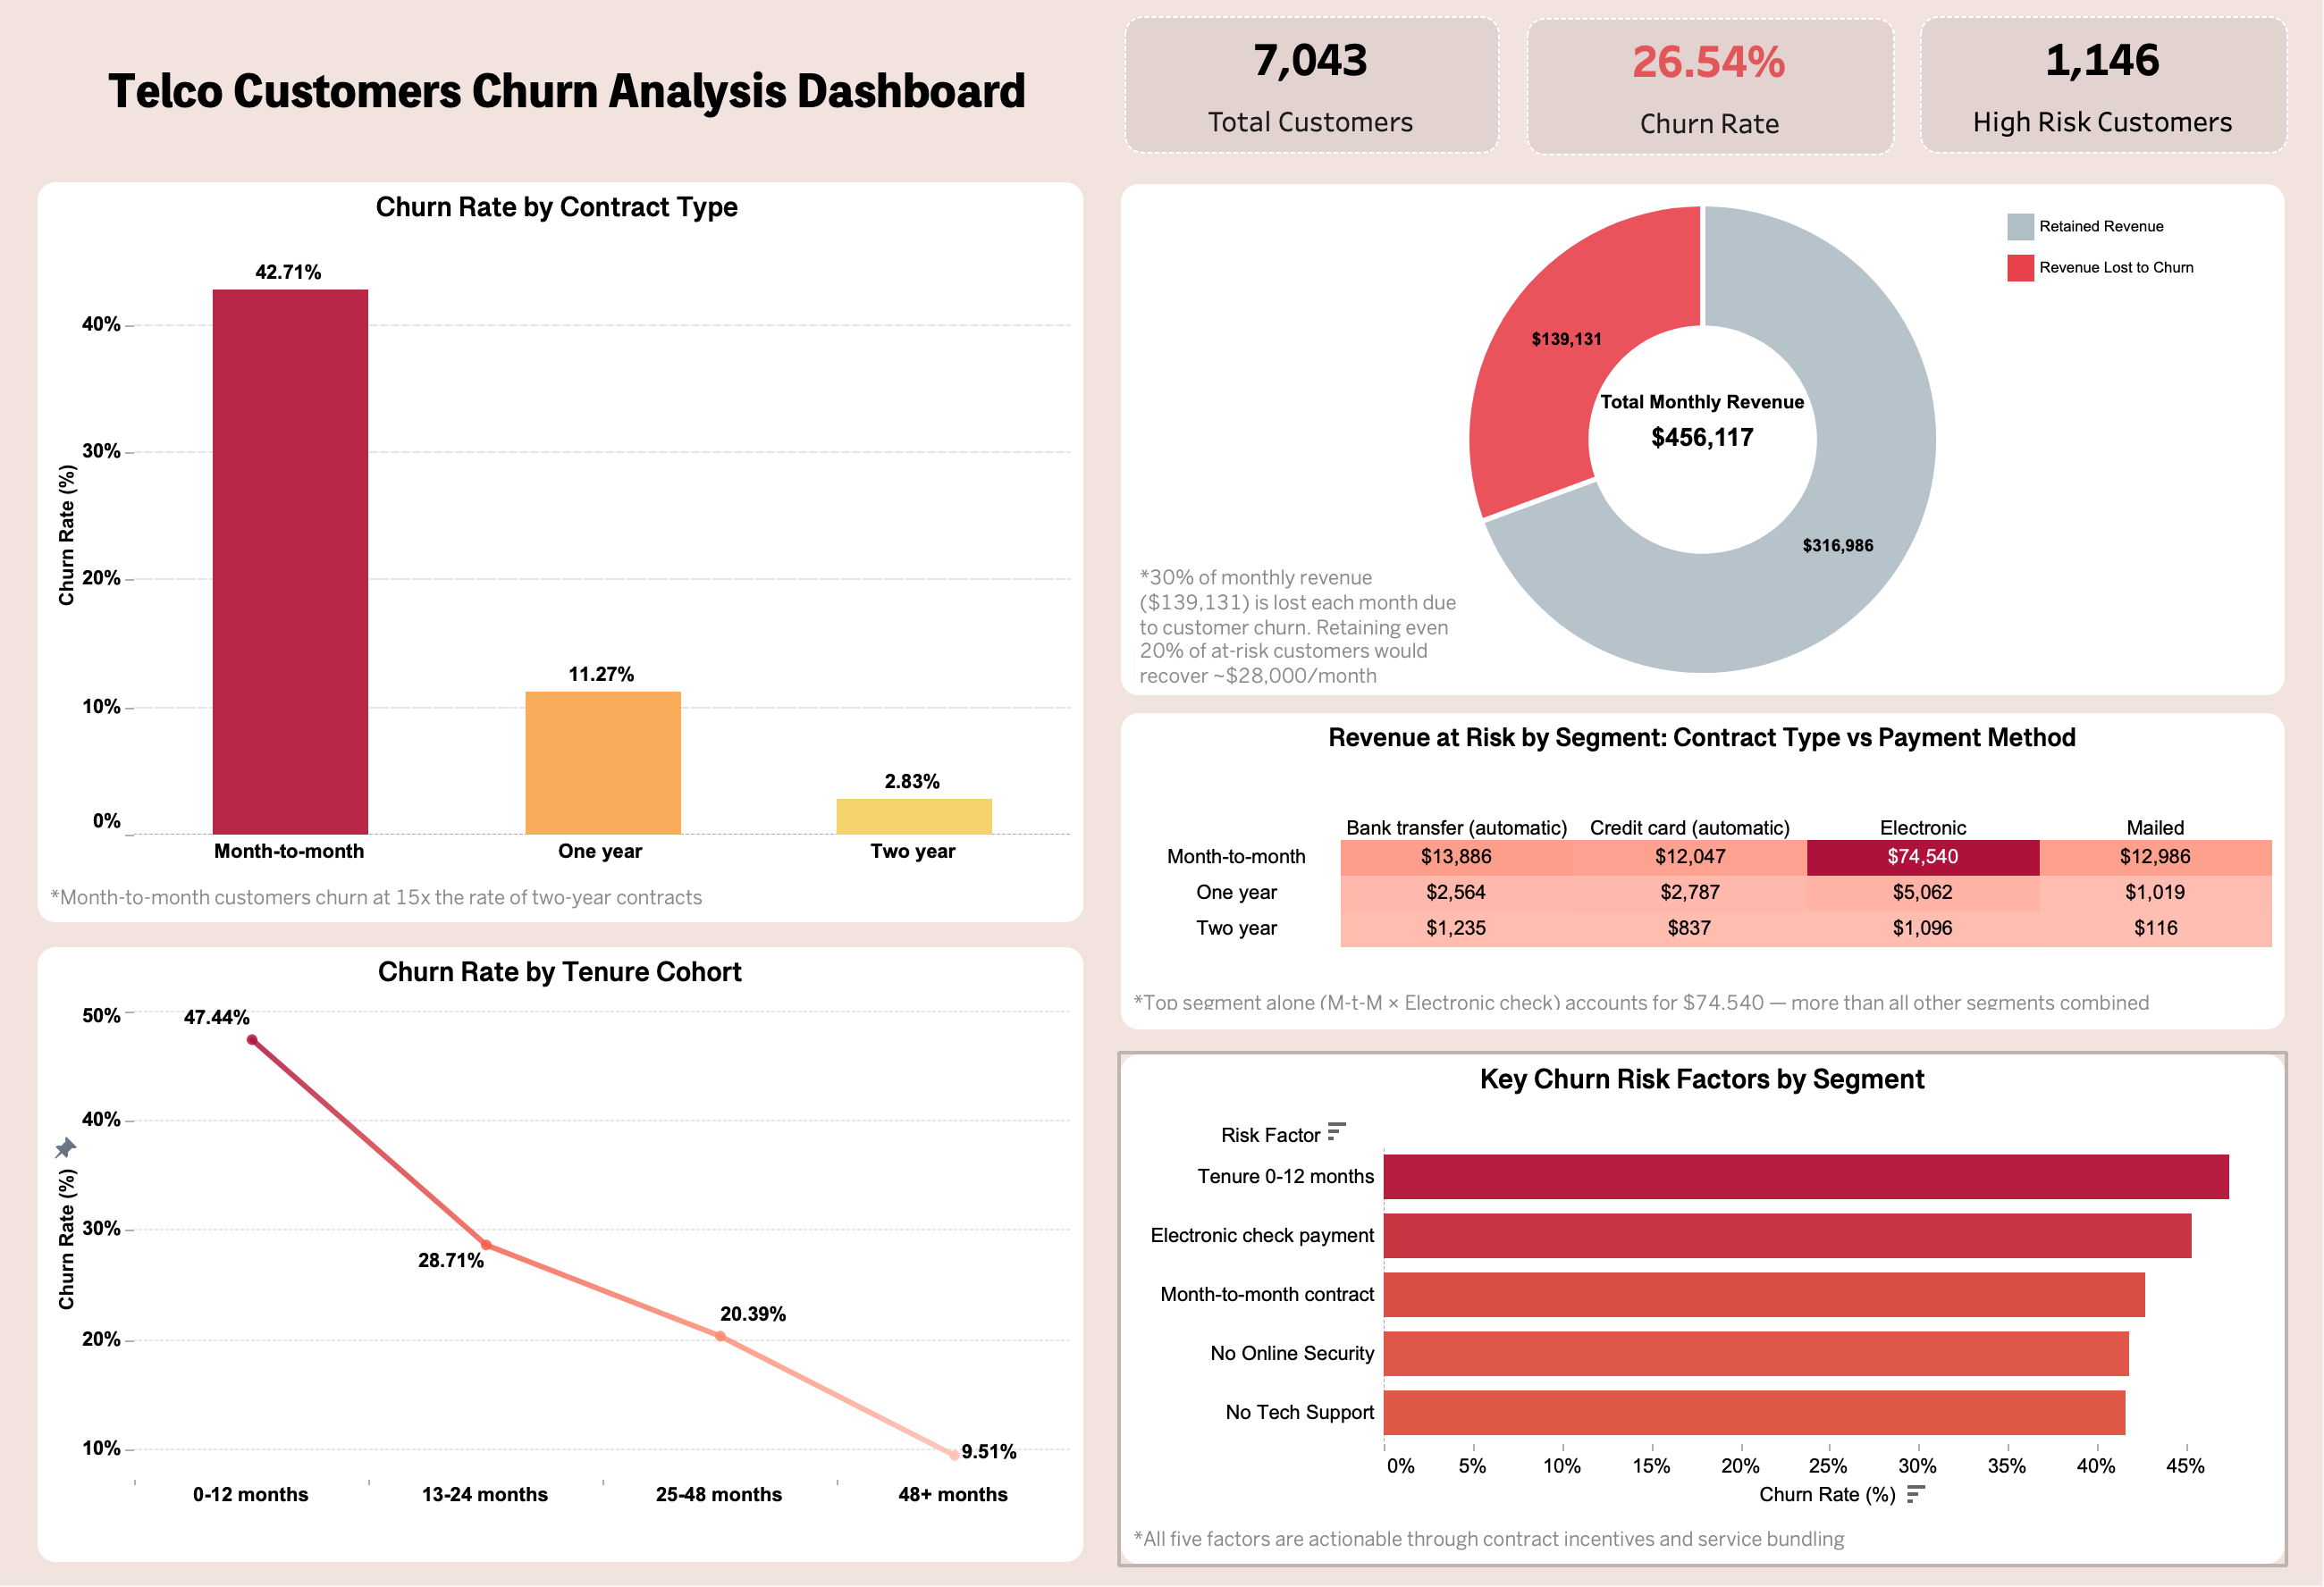

What the dashboard file says about the page in this screenshot:
{"tool":"tableau","page":{"name":"Telco Dashboard","canvas":[1300,900],"ordinal":0},"visuals":[{"type":"worksheet","title":"Total Customers","mark":"Automatic","box":[630,22,210,77]},{"type":"worksheet","title":"High Risk Customers Count","mark":"Automatic","box":[1075,22,206,77]},{"type":"worksheet","title":"Churn Rate","mark":"Automatic","box":[855,23,206,77]},{"type":"text","box":[30,25,577,78]},{"type":"worksheet","title":"Churn Rate by Contract Type ","mark":"Automatic","rows":["Calculation_2634020328935436"],"cols":["contract_type"],"box":[22,115,585,414]},{"type":"worksheet","title":"Monthly Revenue Lost","box":[628,116,651,286]},{"type":"text","box":[636,319,188,80]},{"type":"worksheet","title":"Revenue at Risk by Segment","mark":"Square","rows":["contract"],"box":[628,412,651,177]},{"type":"worksheet","title":"Churn Rate by Tenure Cohor ","mark":"Line","rows":["Calculation_2634019136466946"],"cols":["tenure_cohorts"],"box":[22,543,585,344]},{"type":"worksheet","title":"Key Churn Risk Factors by Segment","mark":"Automatic","rows":["Risk Factor"],"cols":["Calculation_2634019459706885"],"box":[628,603,651,285]}]}

Visuals, with their boxes in screenshot pixels (x1, y1, x2, y2), scaled from the page's 1300x900 canvas onto the 2324x1587 screenshot:
"Total Customers" worksheet: <box>1126,38,1502,174</box>
"High Risk Customers Count" worksheet: <box>1922,38,2290,174</box>
"Churn Rate" worksheet: <box>1528,40,1897,176</box>
text: <box>54,44,1085,181</box>
"Churn Rate by Contract Type " worksheet: <box>39,203,1085,933</box>
"Monthly Revenue Lost" worksheet: <box>1123,205,2286,709</box>
text: <box>1137,562,1473,703</box>
"Revenue at Risk by Segment" worksheet (Square marks): <box>1123,726,2286,1038</box>
"Churn Rate by Tenure Cohor " worksheet (Line marks): <box>39,958,1085,1564</box>
"Key Churn Risk Factors by Segment" worksheet: <box>1123,1063,2286,1566</box>
